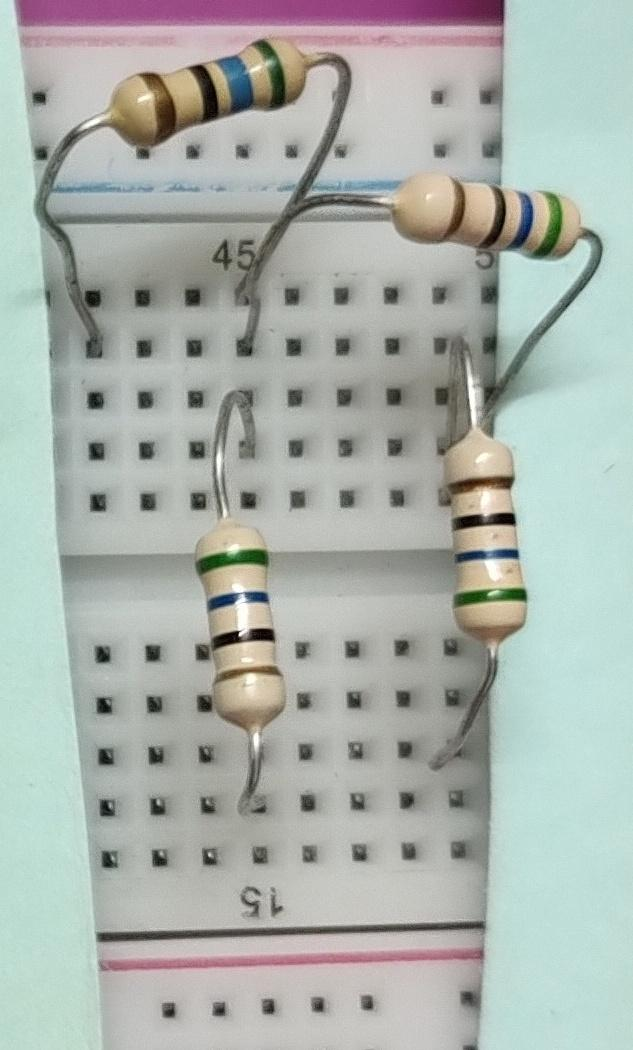resistor: (87, 33, 340, 155), (181, 513, 314, 739), (373, 153, 603, 278), (431, 413, 537, 658)
